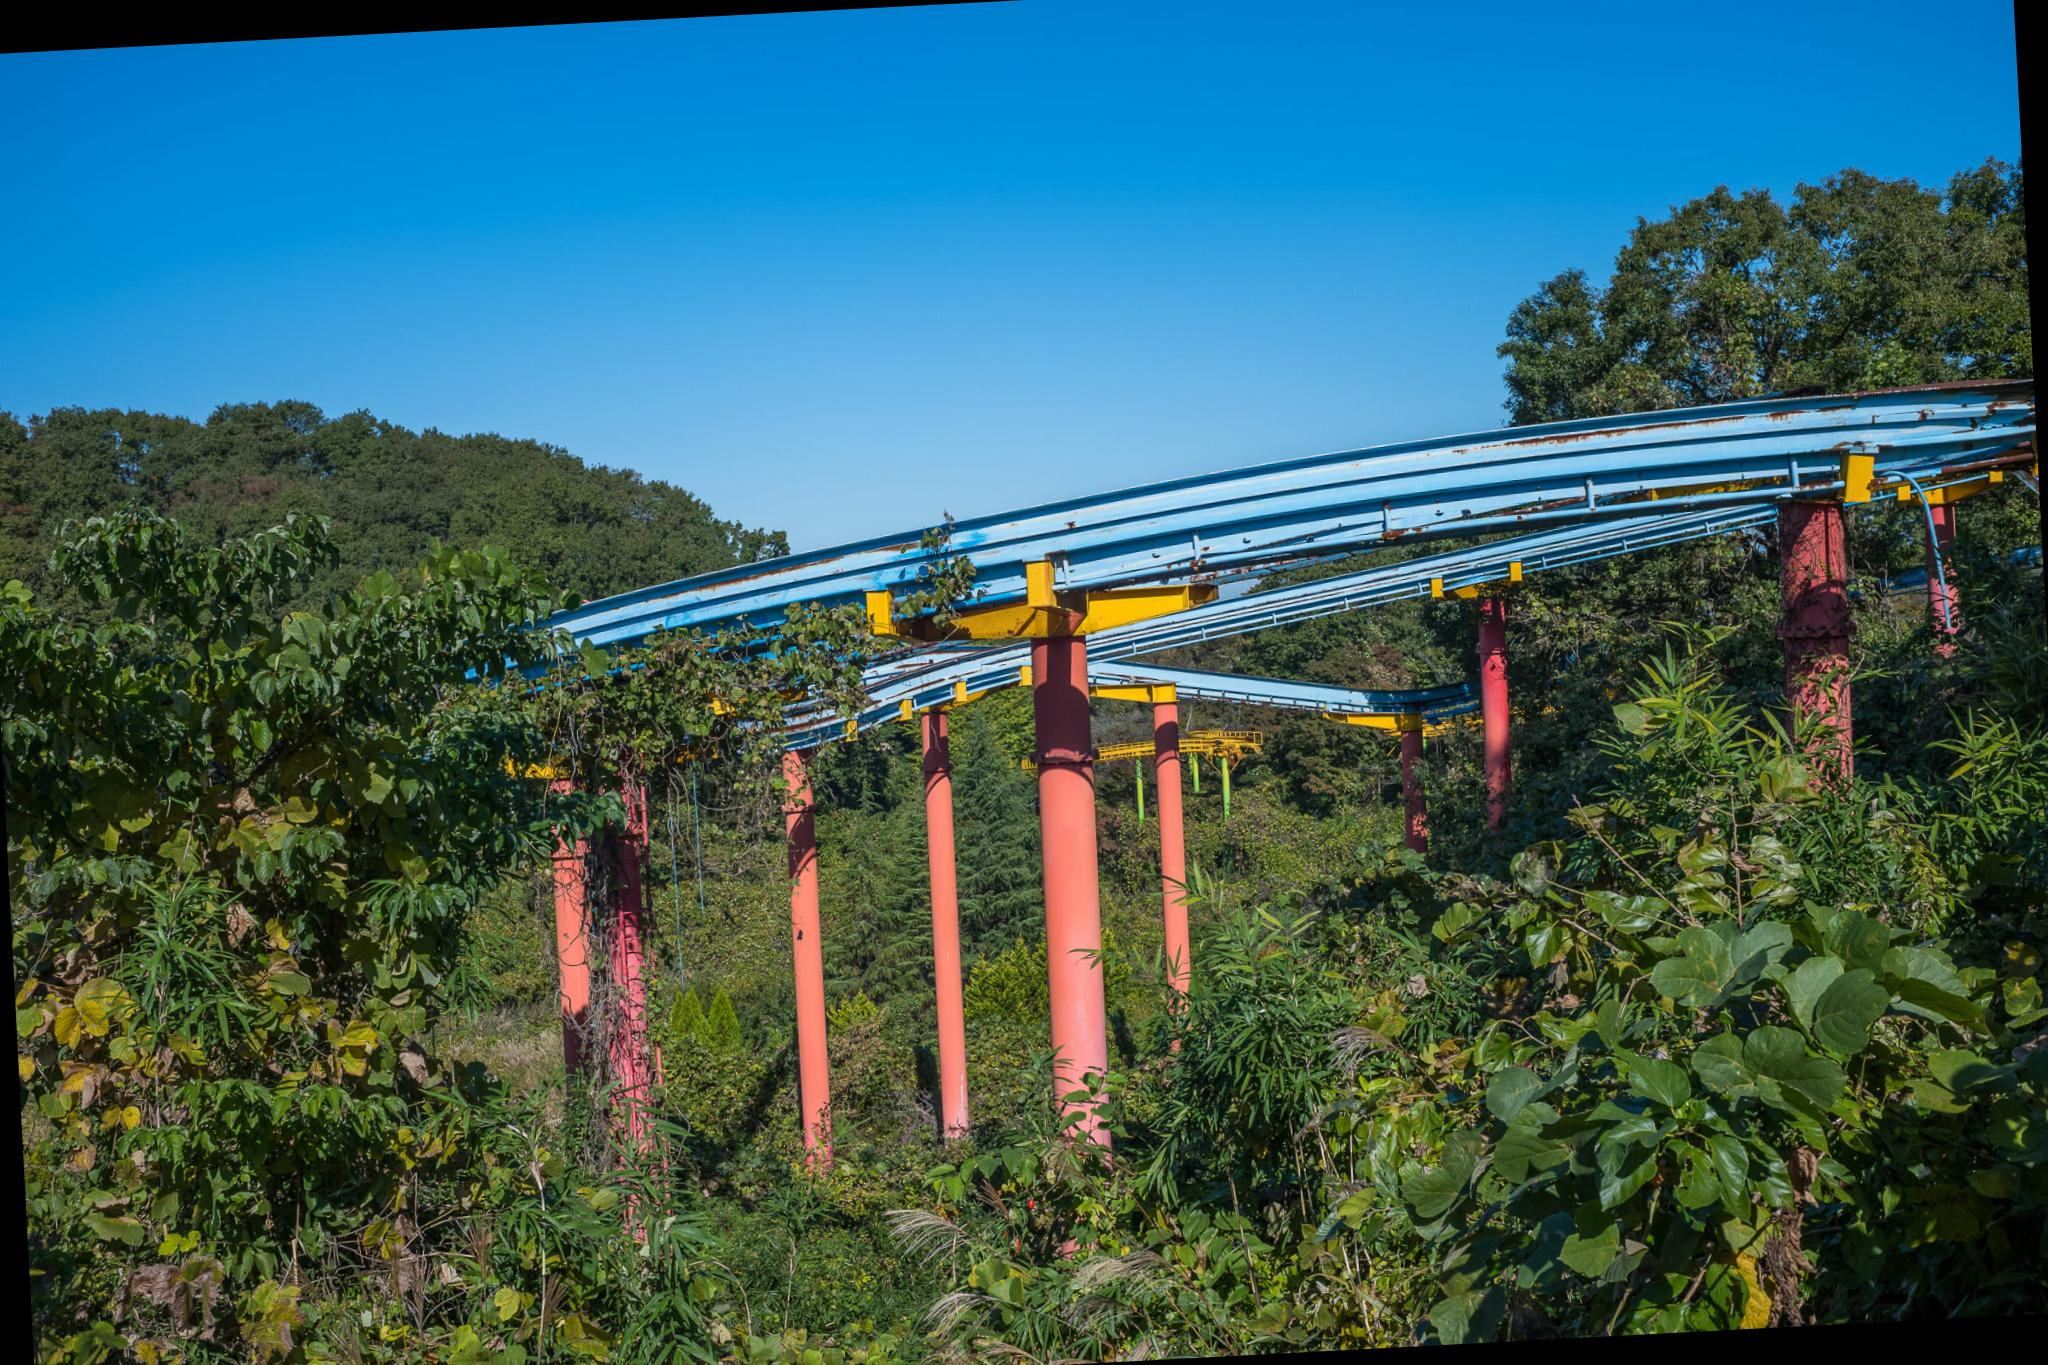overgrown grass: (0, 519, 2048, 1365)
